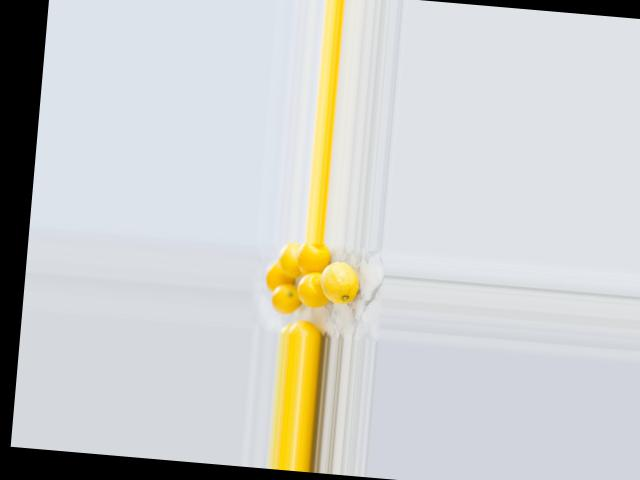lemon: (315, 256, 361, 311)
